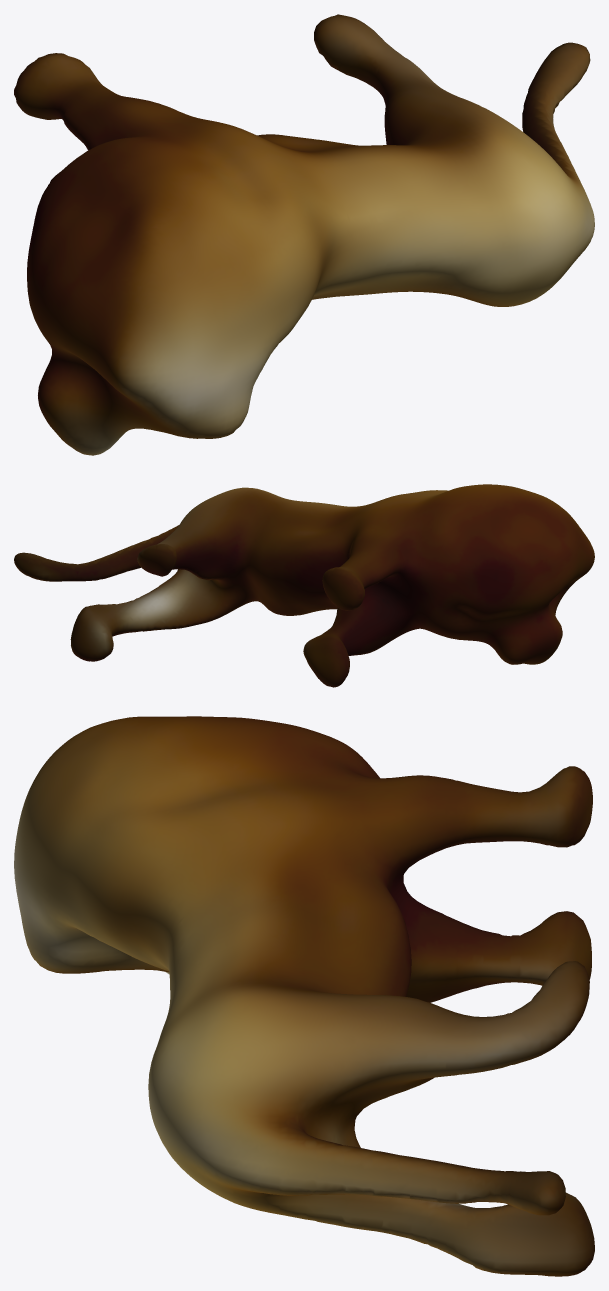
File: lion.glb
3 renders of one model, top to bottom at view 1: azimuth 30°, elevation 25°; view 2: azimuth 150°, elevation 25°; view 3: azimuth 270°, elevation 25°, orthographic. The views are drawn at different scales.
Size of the model in its own units: 0.9986 by 0.3524 by 0.6245.
